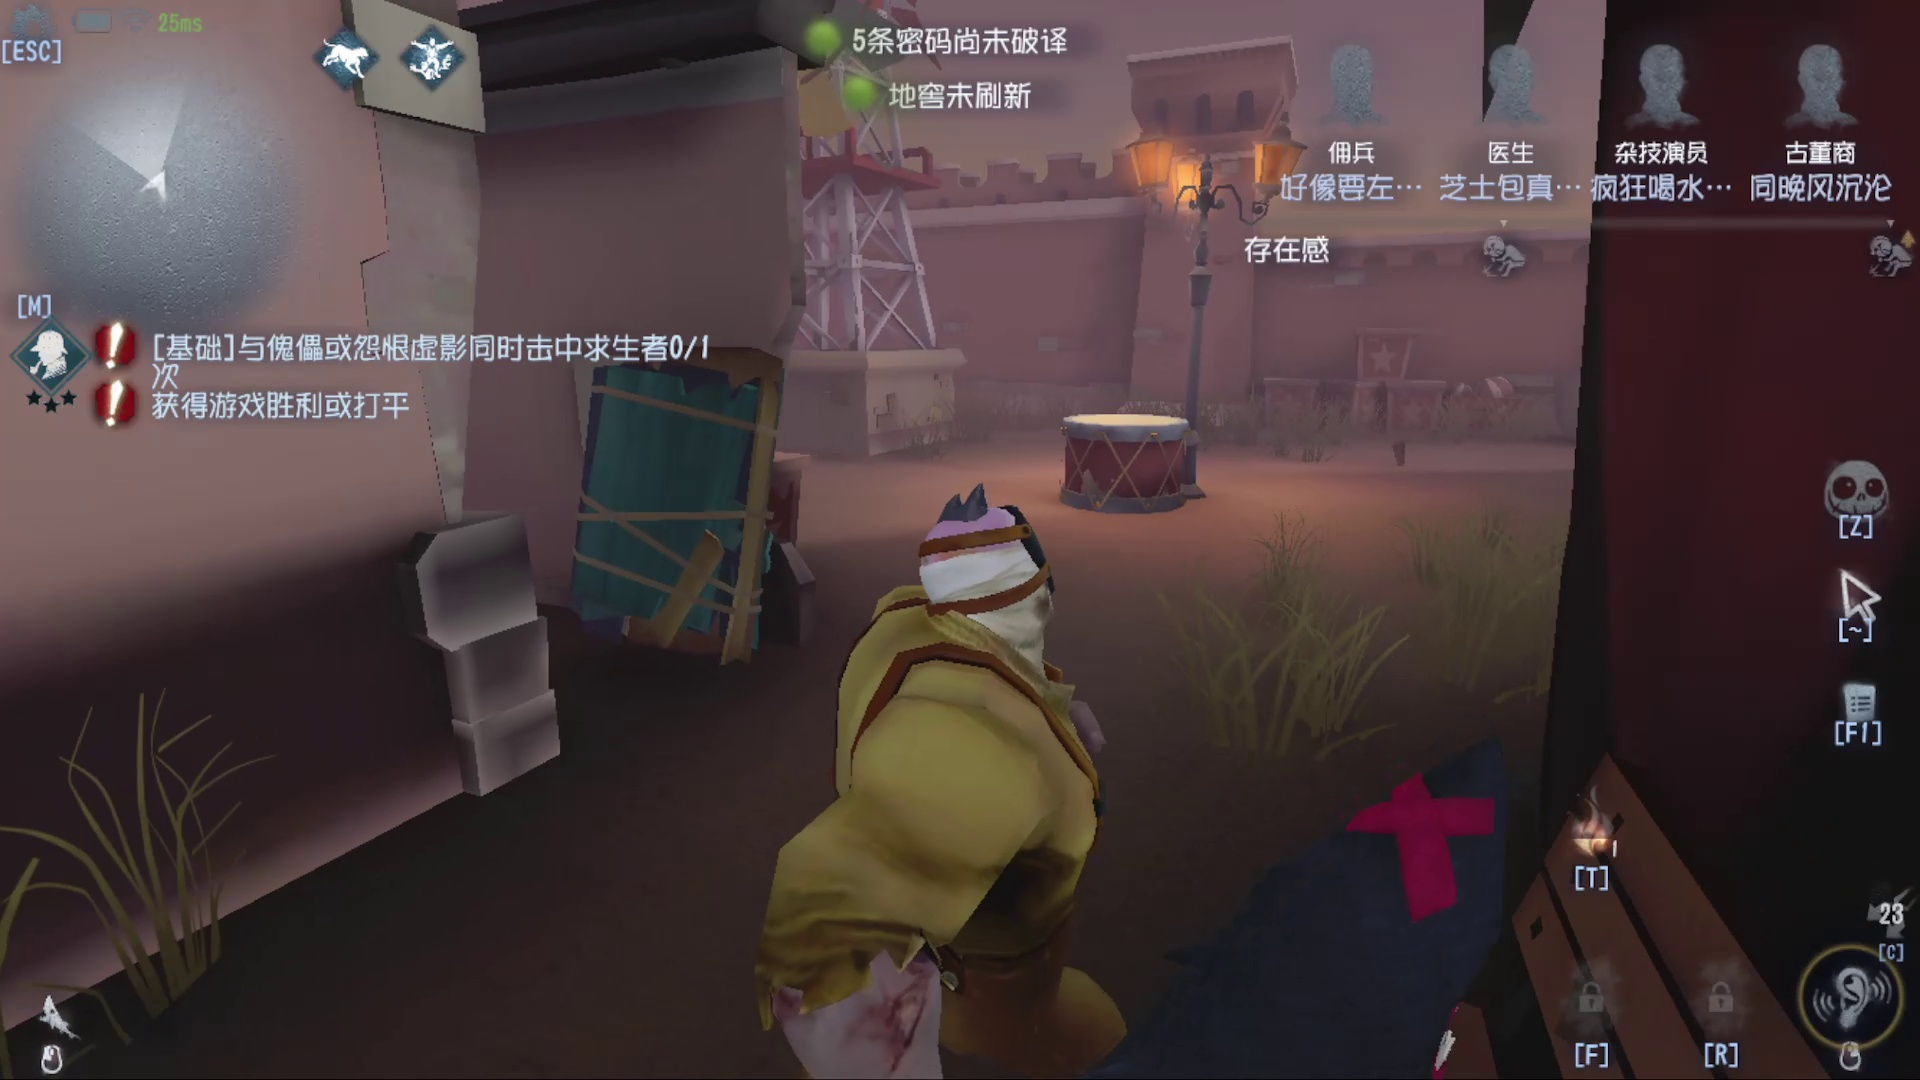木板: (541, 335, 799, 688)
